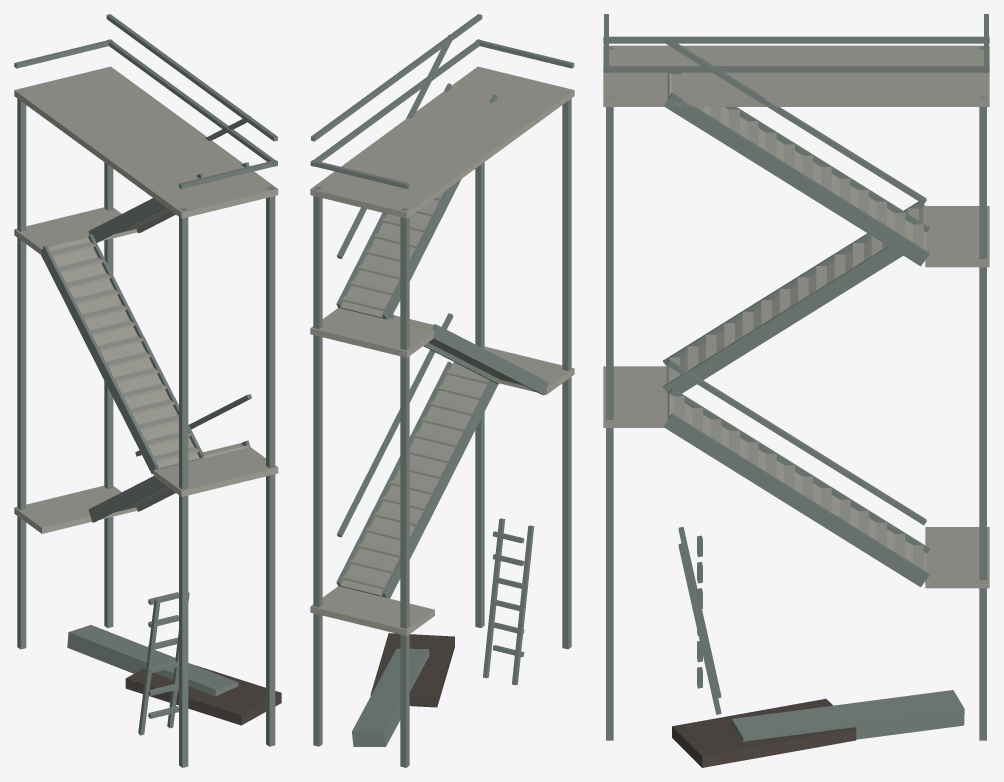
The model's file is SM_EscaleraAzotea_v4_Danada_LOD0.fbx.
The picture shows the model from 3 angles, left to right: view 1: azimuth 30°, elevation 25°; view 2: azimuth 150°, elevation 25°; view 3: azimuth 270°, elevation 25°; orthographic projection. The views are drawn at different scales.
Parts seen in each view (by area): view 1: SM_escalera_azotea_v4_LOD0; view 2: SM_escalera_azotea_v4_LOD0; view 3: SM_escalera_azotea_v4_LOD0.
Part boxes in pixels (<box>): SM_escalera_azotea_v4_LOD0: <box>14,14,281,767</box>; SM_escalera_azotea_v4_LOD0: <box>310,14,574,767</box>; SM_escalera_azotea_v4_LOD0: <box>603,14,989,767</box>.
Size of the model in its own units: 2.96 by 12.12 by 6.
